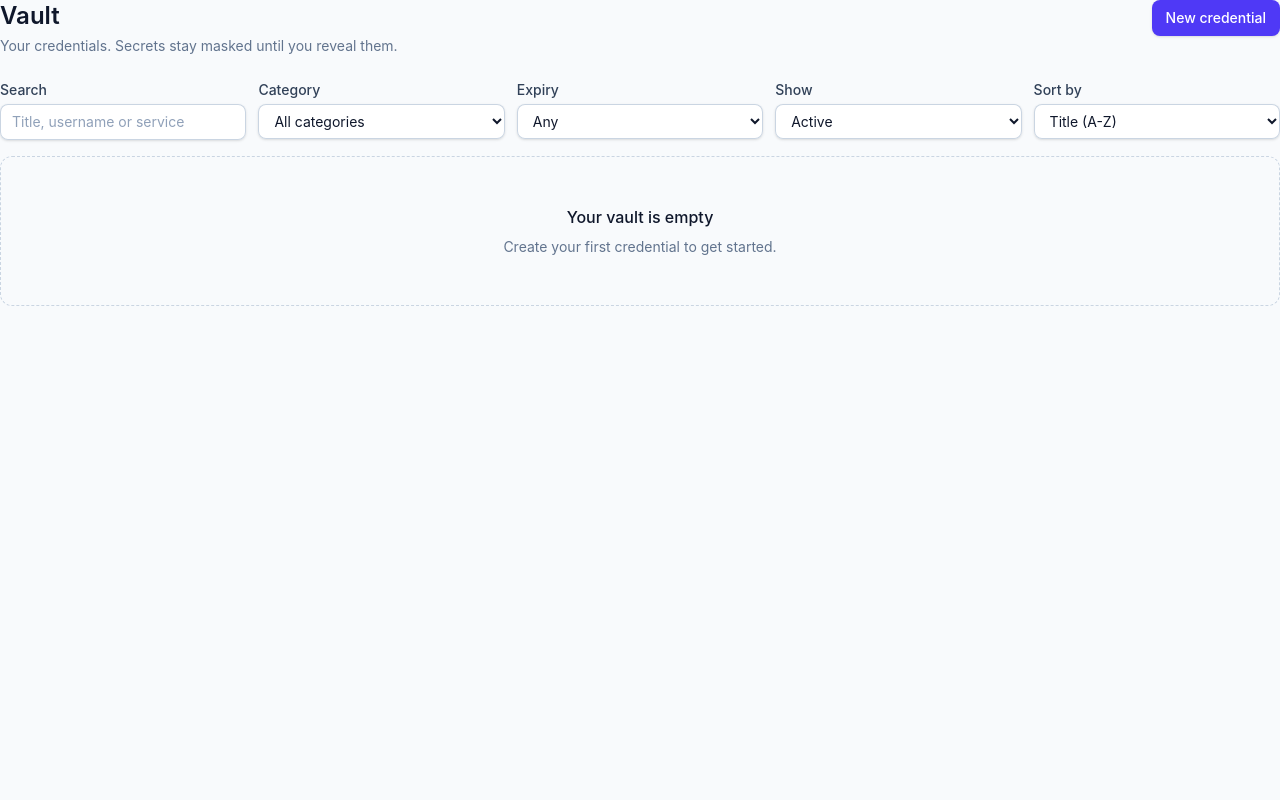
Scenario: opens the new-credential form
Click the button "New credential" at (1216, 18), box [1152, 0, 1279, 36]
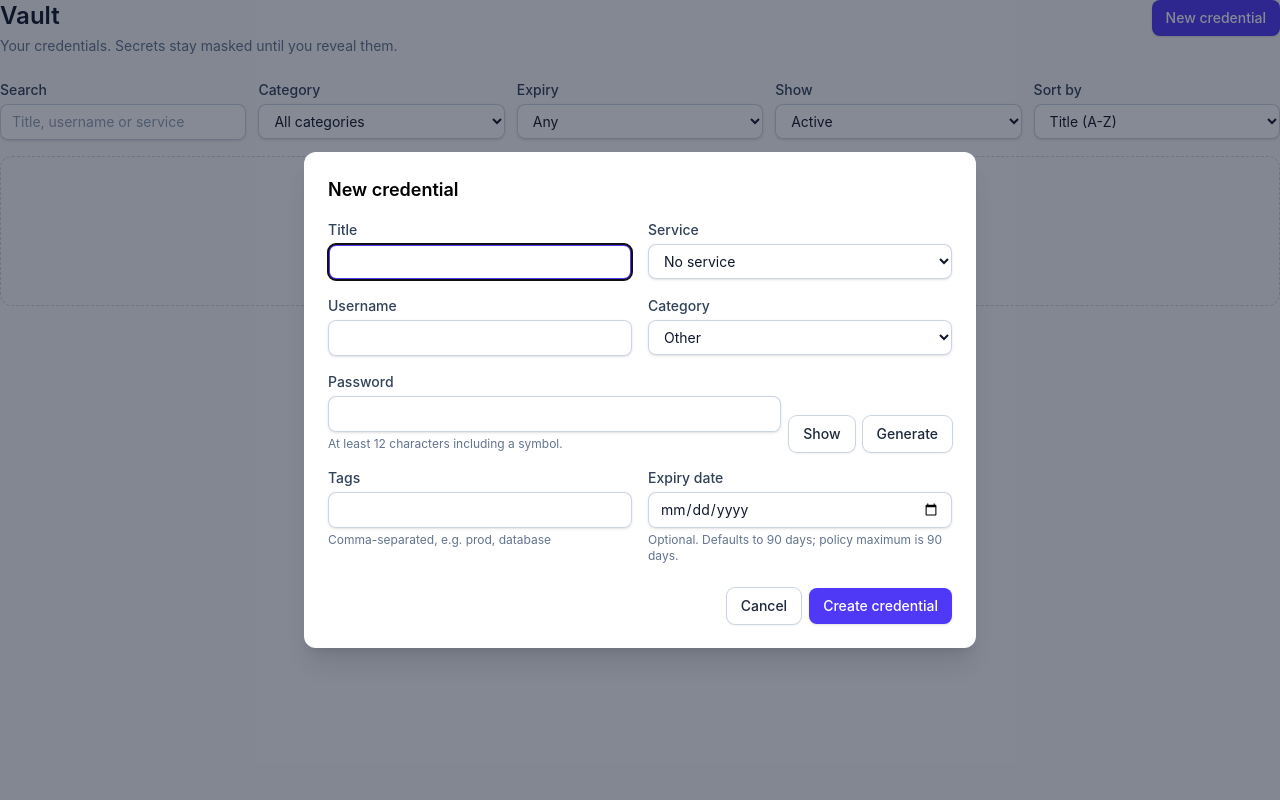
Expected: the heading "New credential" is shown, [328, 179, 459, 200]
